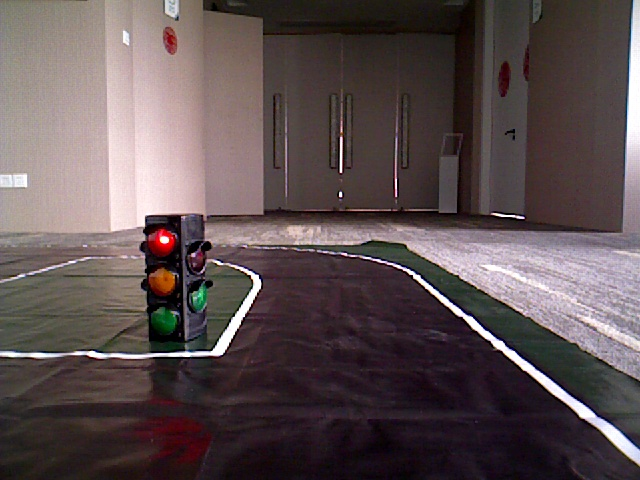red: (142, 219, 182, 335)
